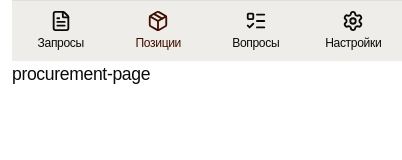
Test: BottomTabBar navigation › clicking an item navigates
The width and height of the screenshot is (402, 160).
Click the link "Настройки" at (353, 30), box [325, 10, 381, 50]
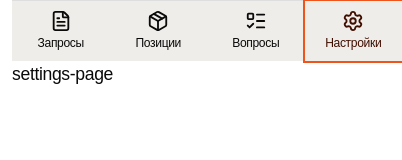
Check: the text "settings-page" is shown, box [12, 64, 113, 84]
